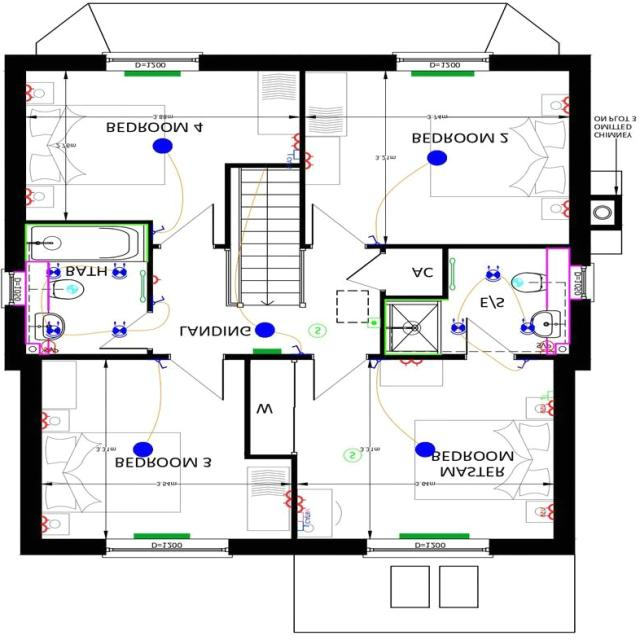Cat 6 Data Socket: (278, 149, 302, 167), (296, 522, 313, 533)
Ceiling Mounted Continuous Extract Fan With Boost Mode Activated By Light Switch: (64, 282, 86, 303)
Co-Ax TV Socket: (293, 512, 317, 523)
Double Socket: (26, 81, 42, 110), (298, 493, 320, 514), (283, 133, 304, 153), (278, 486, 294, 511), (40, 510, 54, 538), (558, 195, 571, 222), (395, 360, 429, 370), (560, 92, 572, 119), (42, 406, 54, 431), (304, 149, 316, 173), (26, 185, 37, 208)
Double SocketCeiling Mounted Continuous Extract Fan With Boost Mode Activated By: (508, 271, 525, 292)
Full Height Tiling: (24, 223, 149, 264), (383, 294, 444, 358)
Light Switch: (147, 361, 175, 376), (362, 234, 388, 248), (152, 223, 170, 243), (153, 290, 170, 311), (366, 360, 384, 379), (290, 339, 307, 357), (515, 361, 533, 375)
Low Energy Downlighter: (514, 309, 542, 342), (104, 317, 132, 345), (40, 314, 67, 343), (108, 257, 132, 284), (486, 260, 507, 288), (450, 312, 474, 336), (41, 264, 69, 282)
Low Energy Pendant Light: (137, 130, 183, 164), (406, 434, 442, 463), (122, 439, 161, 460), (421, 152, 450, 178), (249, 321, 281, 343)
Mains Wired Smoke Detector: (344, 444, 366, 470), (309, 318, 329, 342)
Programmable Room Thermostat: (363, 314, 384, 335)
Radiator: (116, 66, 198, 83), (130, 526, 204, 544), (395, 526, 476, 540), (404, 72, 486, 82), (246, 347, 284, 358)
Shaver Socket: (35, 338, 63, 356), (538, 337, 556, 357)
Single Socket: (153, 271, 165, 288)
USB Double Socket: (528, 503, 557, 523), (535, 402, 555, 426), (538, 388, 556, 400)
